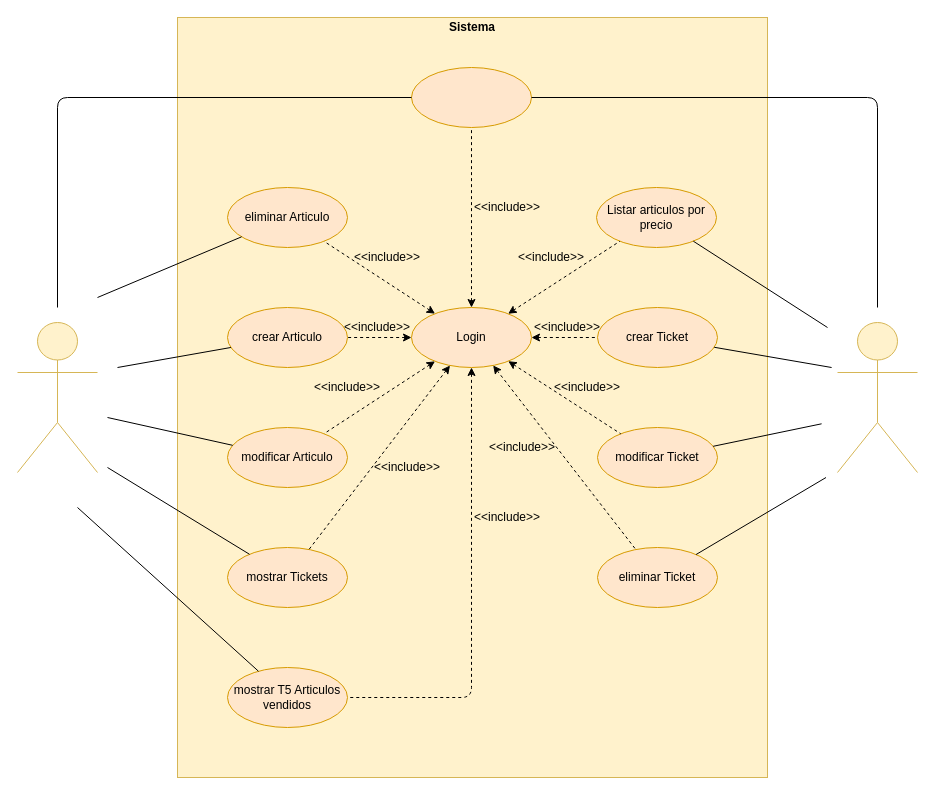
Some shapes in this 935 by 795 pixel diagram are drawn without their labels. Here are the shapes that lost their labels. From the top down, the centre of each, then its label:
the point at 471,97: mostrar Articulos
the point at 57,397: Administrador
the point at 877,397: Dependiente
